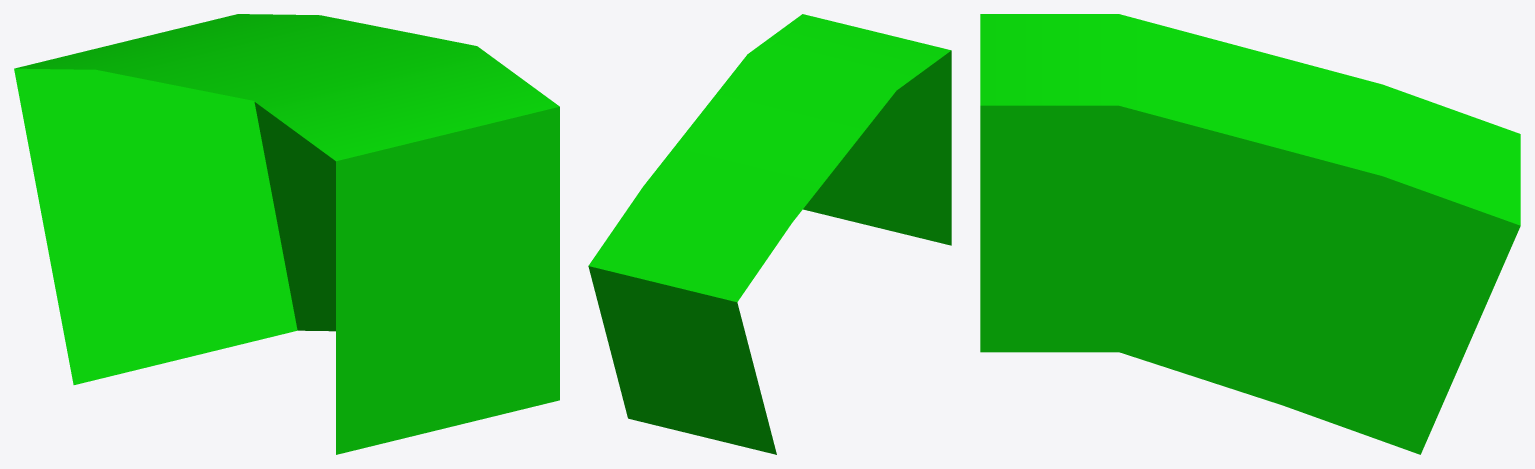
Rendered from tile 4.fbx.
3 views of the same model, side by side, from view 1: azimuth 30°, elevation 25°; view 2: azimuth 150°, elevation 25°; view 3: azimuth 270°, elevation 25° (orthographic). The views are drawn at different scales.
Parts seen in each view (by area): view 1: pCube6; view 2: pCube6; view 3: pCube6.
Boxes of the visible parts, x1=… form: pCube6: x1=14, y1=14, x2=559, y2=454; pCube6: x1=588, y1=14, x2=951, y2=454; pCube6: x1=980, y1=14, x2=1520, y2=454.
Size of the model in its own units: 5.28 by 9.38 by 13.16.
